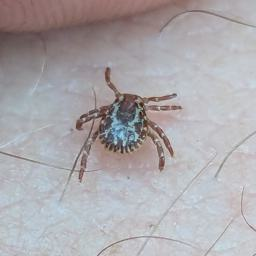Dermacentor variabilis: (75, 66, 184, 184)
